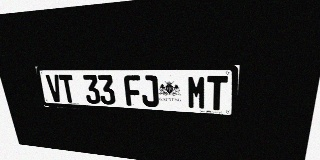3: (97, 75, 116, 105), (83, 75, 101, 104)
F: (123, 75, 142, 106)
J: (140, 75, 159, 107)
M: (187, 75, 207, 110)
T: (207, 76, 228, 111), (58, 75, 77, 103)
V: (45, 75, 63, 102)
